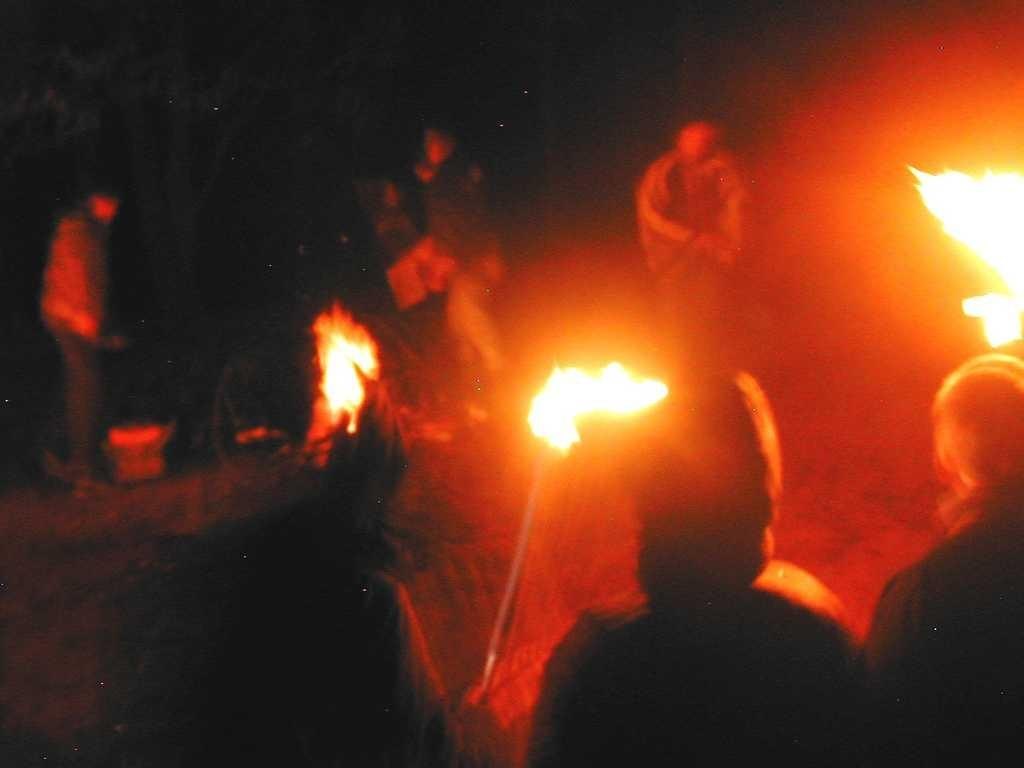fire: (956, 176, 1018, 316), (534, 362, 644, 426), (318, 336, 372, 422)
